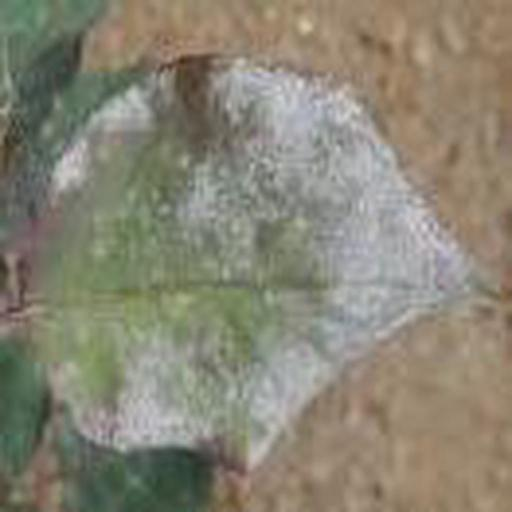powdery_mildew: (0, 54, 479, 472)
